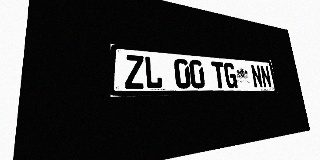0: (174, 58, 191, 89), (189, 59, 205, 88)
G: (223, 62, 238, 88)
L: (144, 56, 163, 89)
N: (250, 64, 263, 88), (260, 65, 272, 88)
T: (211, 61, 226, 88)
Z: (124, 54, 145, 89)
